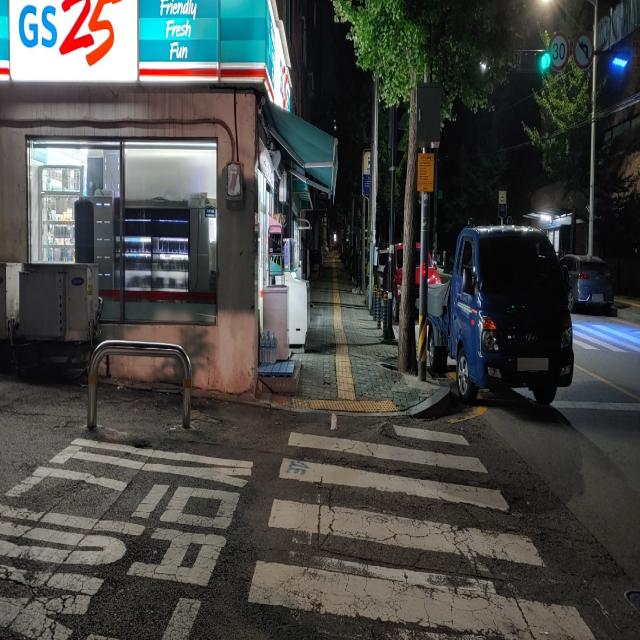횡단보도: (248, 423, 594, 640)
